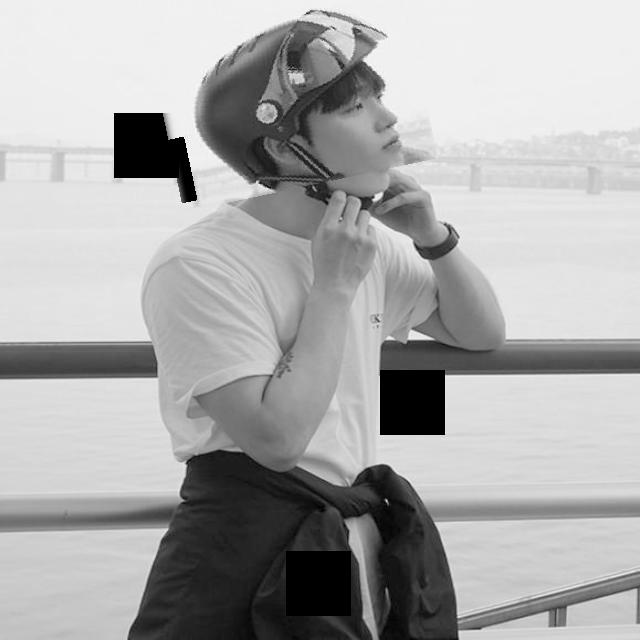helmet: (155, 0, 430, 199)
